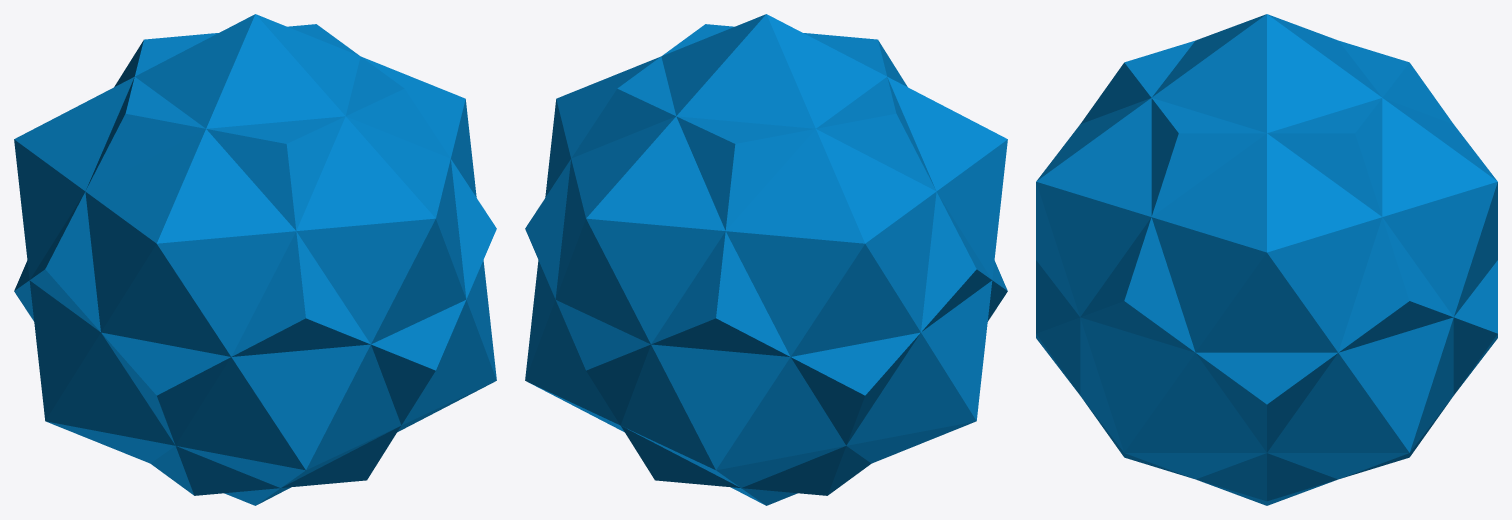
Rendered from bit.fbx.
3 views of the same model, side by side, from view 1: azimuth 30°, elevation 25°; view 2: azimuth 150°, elevation 25°; view 3: azimuth 270°, elevation 25° (orthographic).
Parts seen in each view (by area): view 1: bit_idle1.1; view 2: bit_idle1.1; view 3: bit_idle1.1.
Boxes of the visible parts, x1,y1,x2,y2 form: bit_idle1.1: (14,14,496,505); bit_idle1.1: (525,14,1007,505); bit_idle1.1: (1036,14,1497,505).
Bounding box in the file's own units: 149 × 166 × 142.
